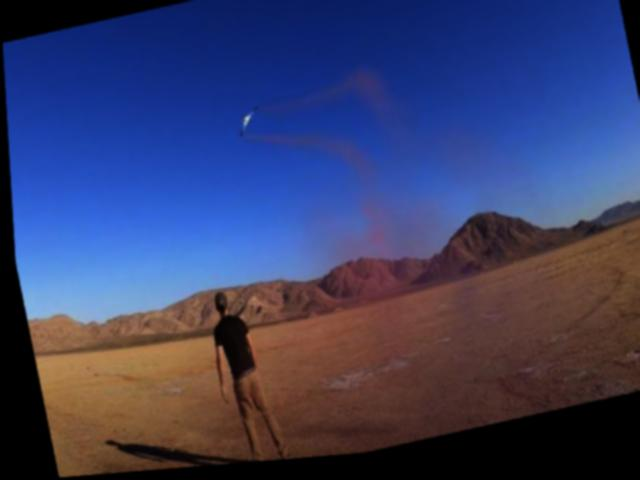iha: (234, 109, 262, 142)
